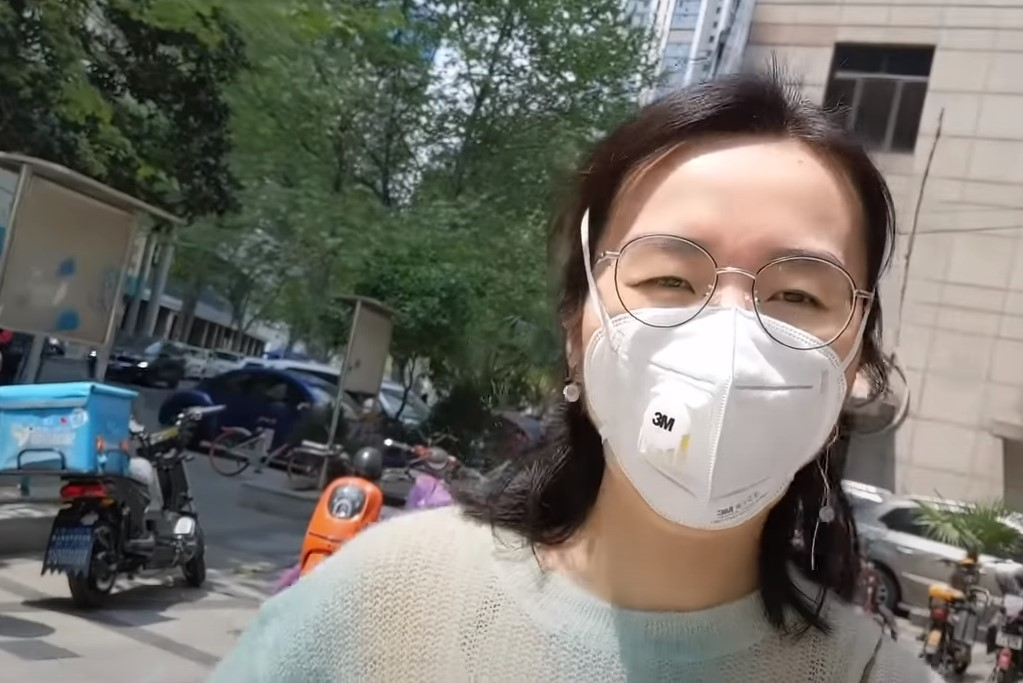face_with_mask: (572, 126, 887, 531)
